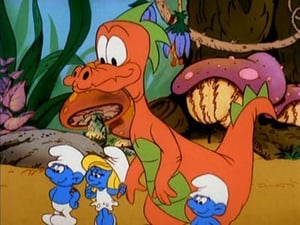smurf: (81, 144, 128, 225), (40, 144, 86, 225), (184, 172, 230, 225)
